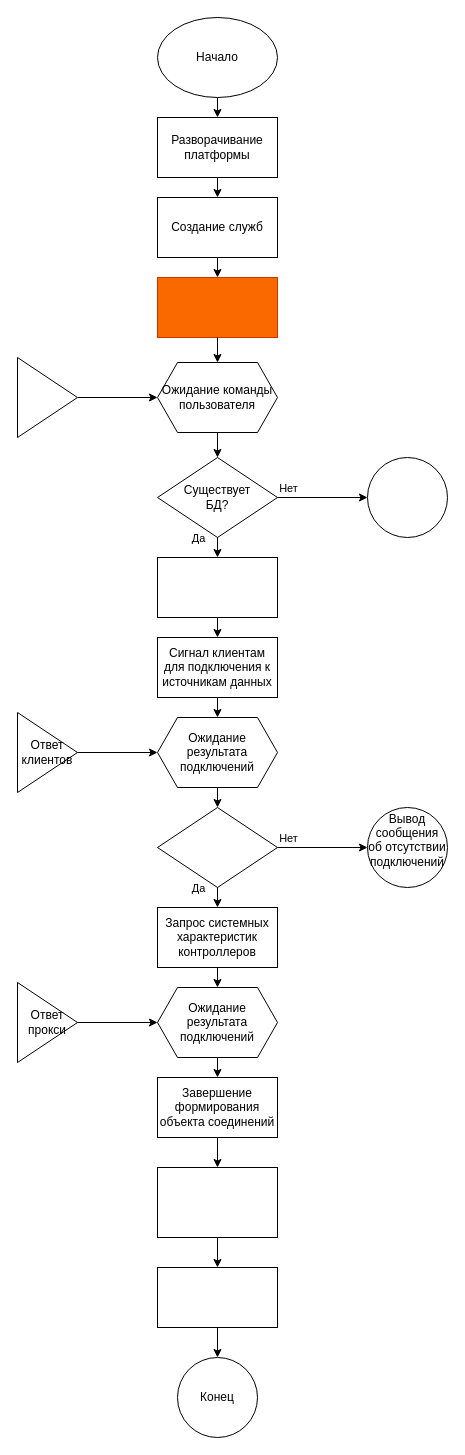
This 465x1455 diagram has some shape labels left out. The box of each missing label's shape, as (x1, y1, x2, y2) in pixels:
Ввод: (16, 356, 78, 438)
Завершение с ошибкой: (366, 456, 448, 538)
Запуск циклического опроса контроллеров: (156, 1266, 278, 1328)
Количество контроллеров >0?: (156, 806, 278, 888)
Сигнал для DeviceManager: (156, 1166, 278, 1238)
Сигнал для создания других объектов: (156, 276, 278, 338)
Чтение коллекции БД и формирования объекта подключений: (156, 556, 278, 618)
